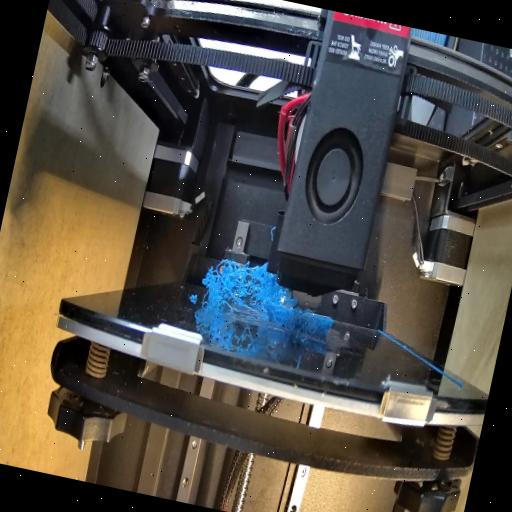spaghetti: (198, 257, 298, 327), (289, 294, 327, 342)
